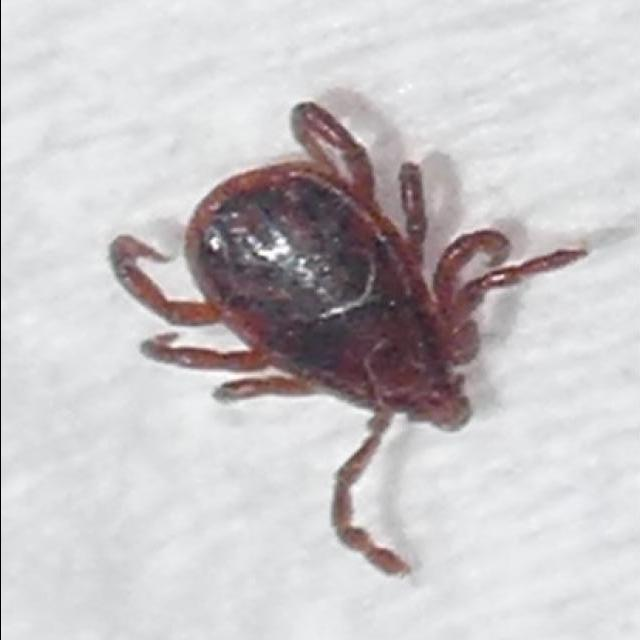Rhipicephalus Sanguineus-M: (108, 99, 589, 576)
